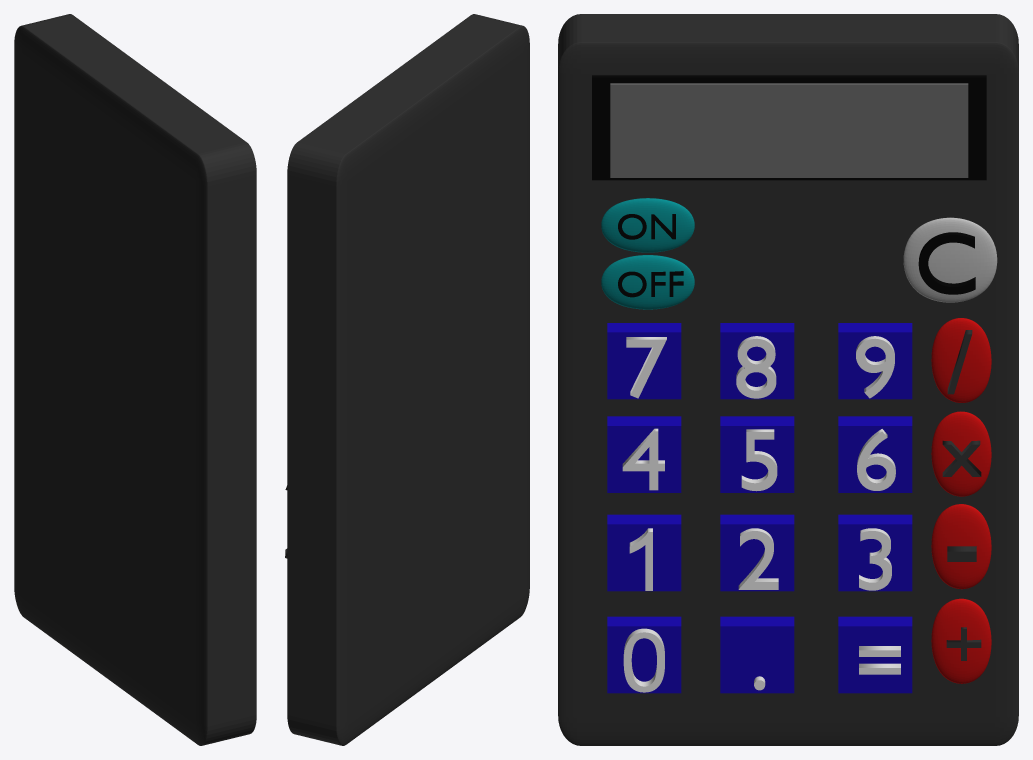
The model's file is calculate.fbx.
3 renders of one model, left to right at view 1: azimuth 30°, elevation 25°; view 2: azimuth 150°, elevation 25°; view 3: azimuth 270°, elevation 25°, orthographic. The views are drawn at different scales.
Visible parts, largest first — view 1: Cube; view 2: Cube; view 3: Cube, Cube.020, Cube.021, Cube.005, Cube.010, Cube.013, Cube.001, Cube.012, Cube.002, Cube.011, Cube.006, Cube.007 (+23 smaller).
Boxes of the visible parts, x1,y1,x2,y2 form: Cube: (14, 14, 256, 745); Cube: (287, 14, 529, 745); Cube: (558, 14, 1018, 745); Cube.020: (610, 83, 968, 177); Cube.021: (592, 75, 986, 180); Cube.005: (720, 616, 794, 693); Cube.010: (607, 514, 681, 591); Cube.013: (903, 217, 997, 302); Cube.001: (838, 616, 912, 693); Cube.012: (607, 323, 681, 399); Cube.002: (838, 514, 912, 591); Cube.011: (607, 416, 681, 492); Cube.006: (720, 514, 794, 591); Cube.007: (720, 416, 794, 492).
Bounding box in the file's own units: 65.19 × 460 × 273.
